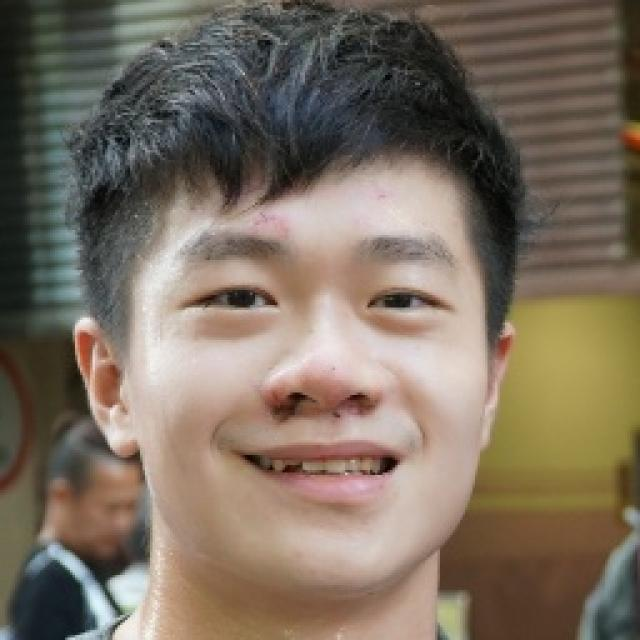earlobe: (72, 315, 140, 458), (480, 317, 519, 452)
